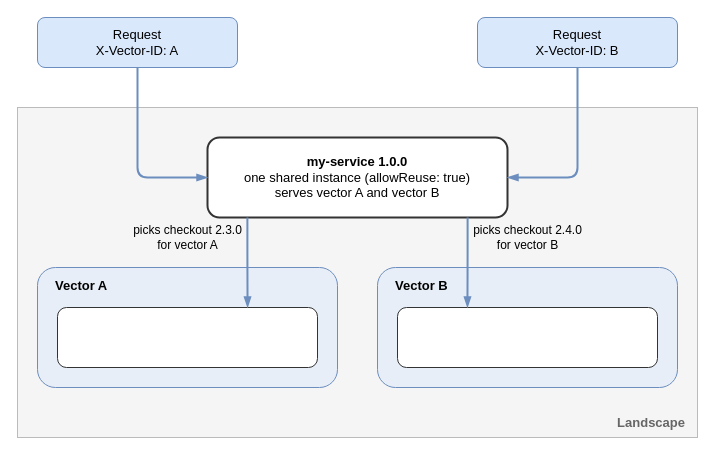
This 715x455 diagram has some shape labels left out. Each missing label, with the box of its shape:
checkout 2.3.0 own instance of vector A: (56, 306, 318, 368)
checkout 2.4.0 own instance of vector B: (396, 306, 658, 368)
